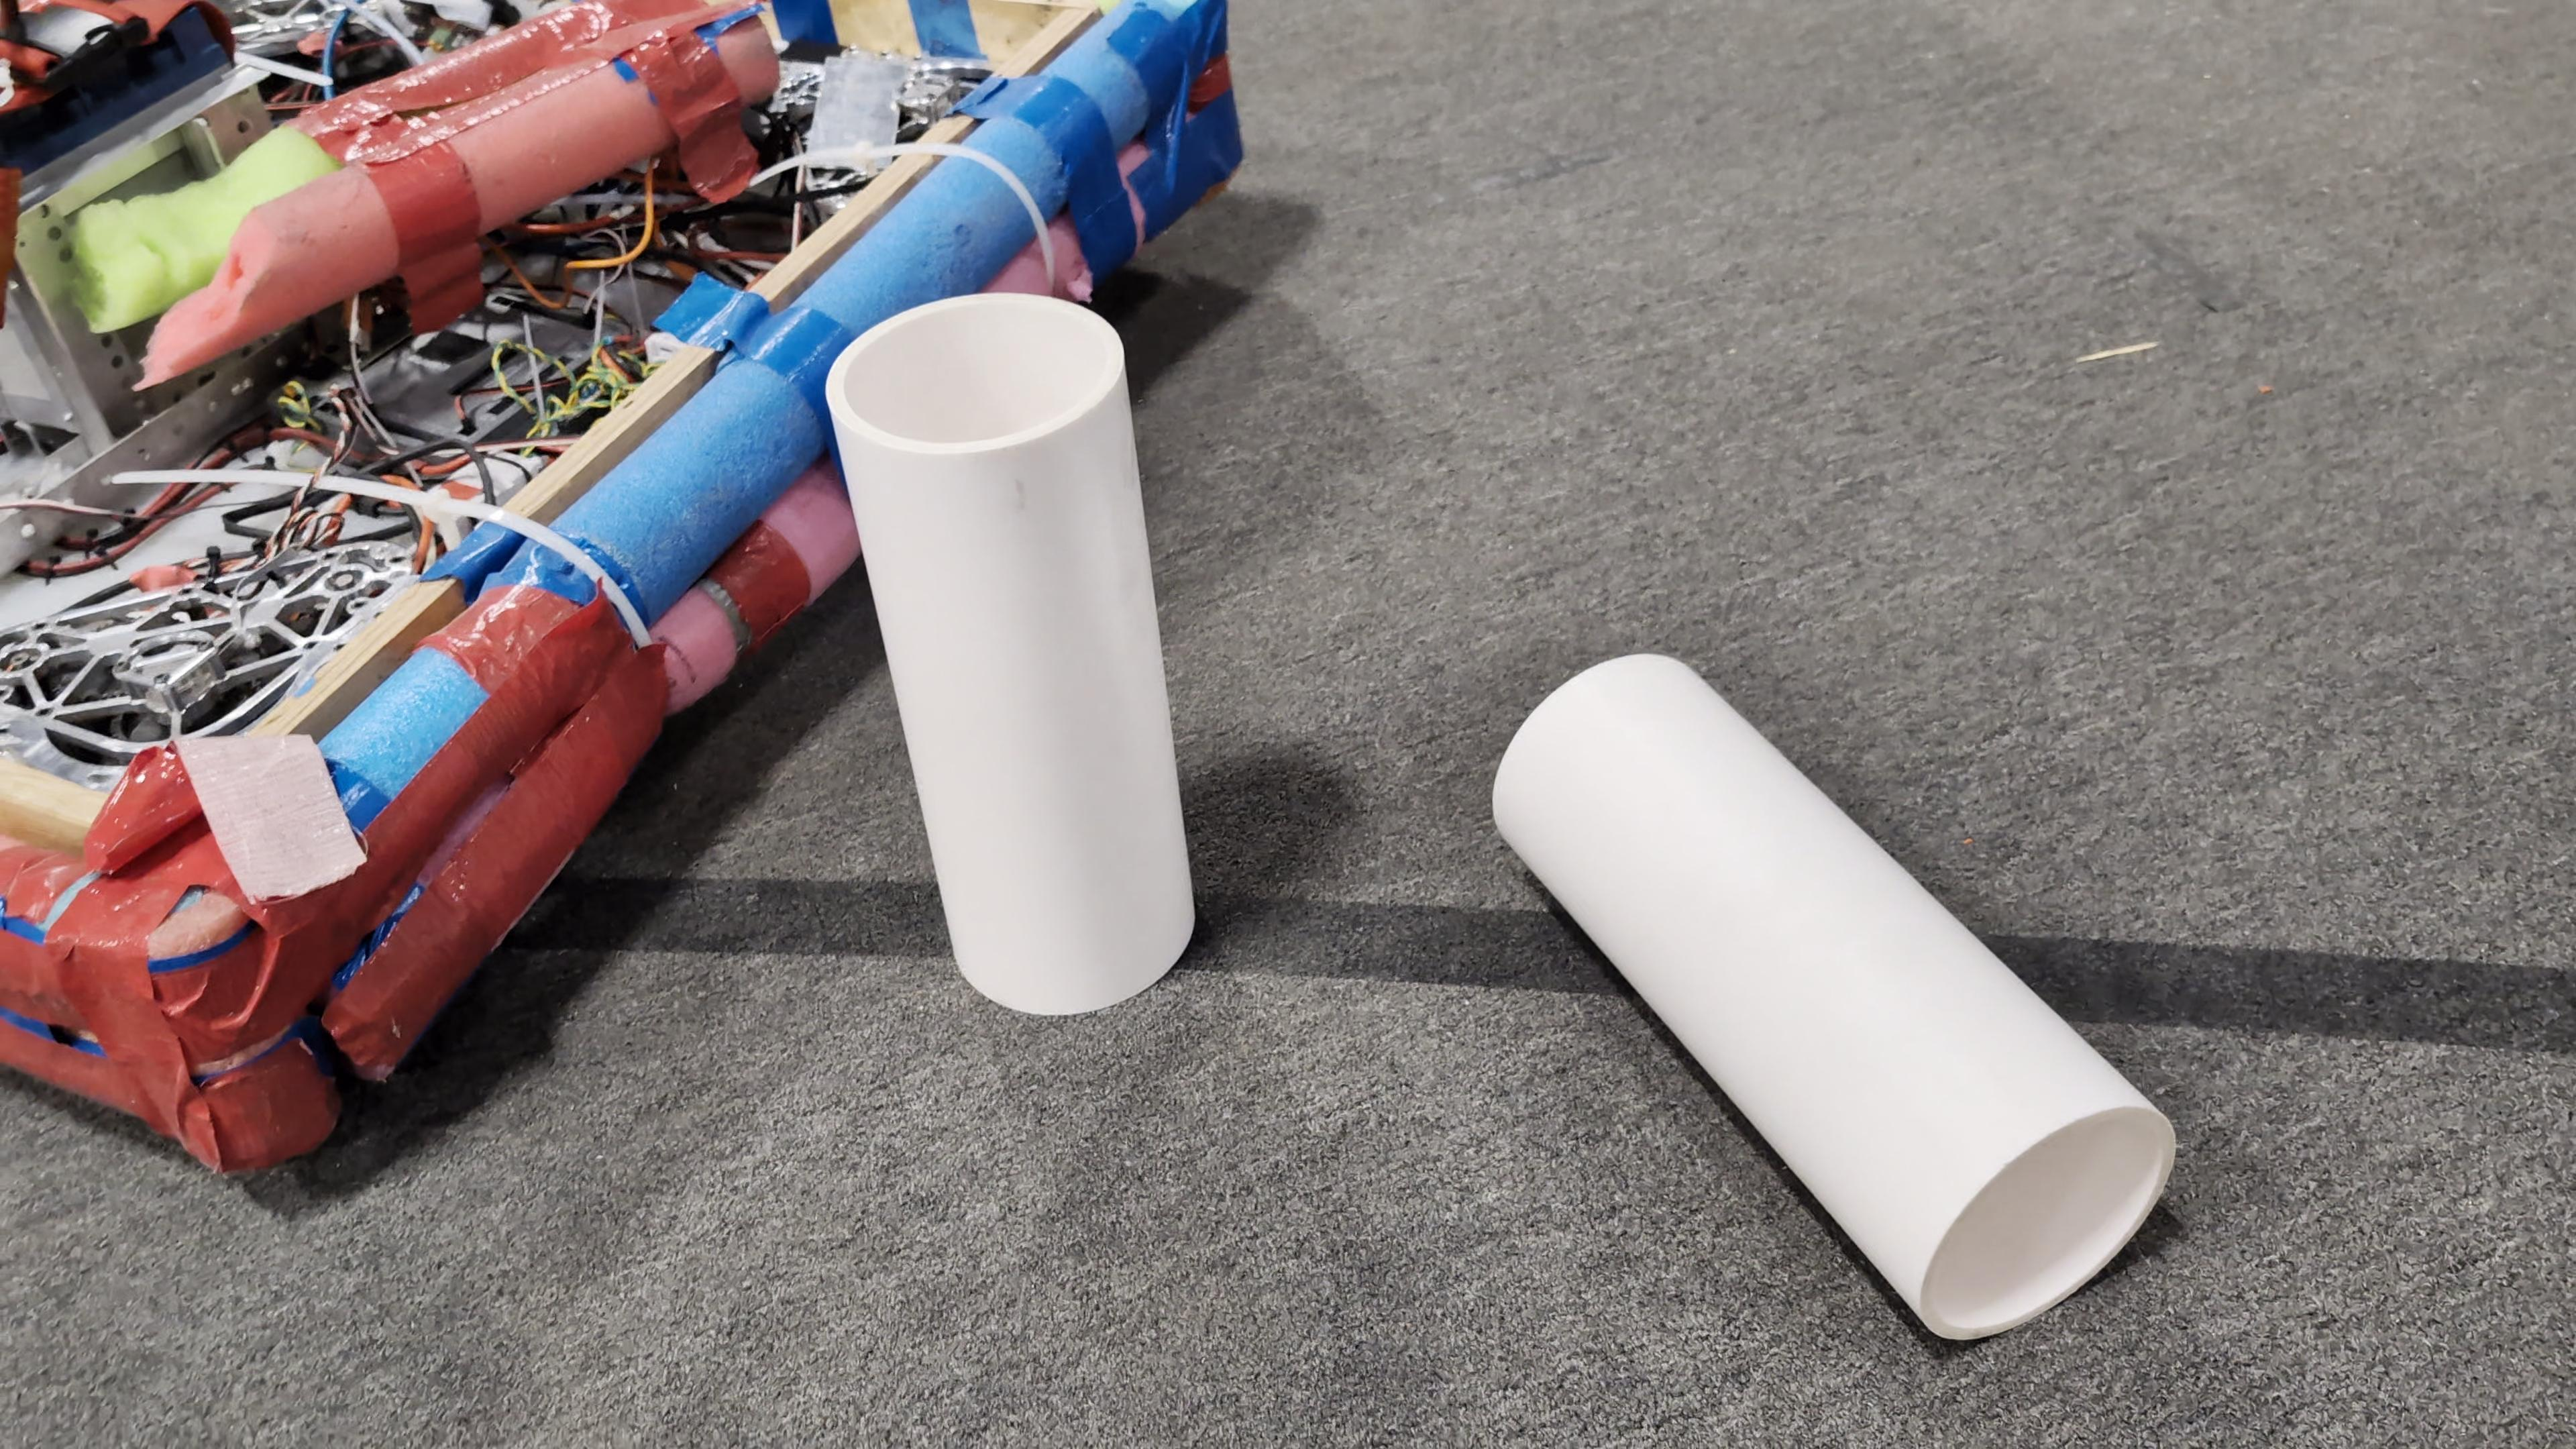coral: (1490, 646, 2180, 1341), (819, 287, 1201, 1012)
